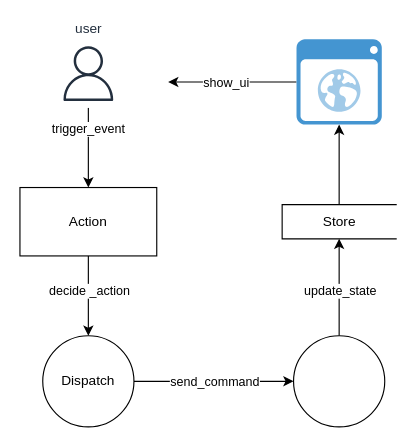
Image size: 416x447. Some labels were removed from this diagram. The shapes that lost their labels are listed below. From the top down, each one's box as (x1, y1, x2, y2) in pixels, then its label:
(296, 39, 381, 124): User Interface
(292, 335, 385, 427): Reducer
